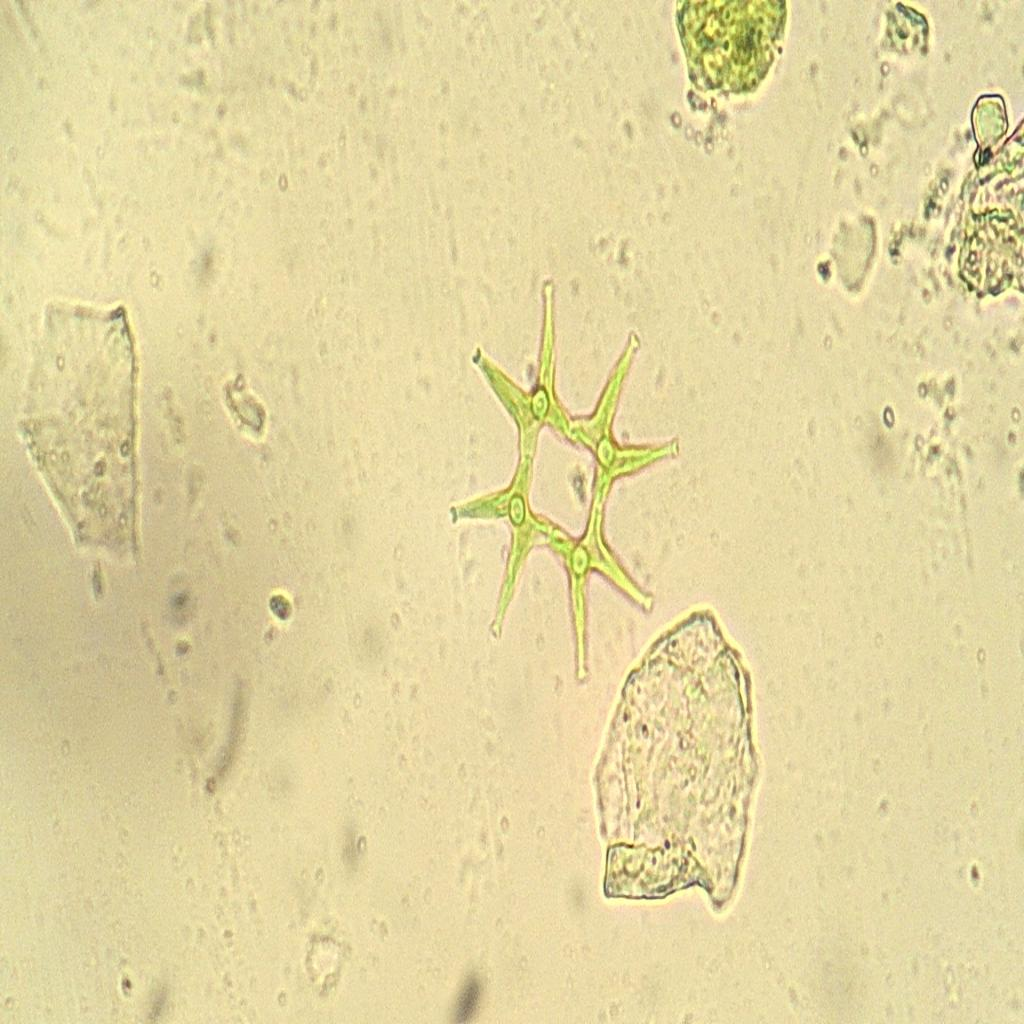Pediastrum_75O: (429, 266, 696, 714)
